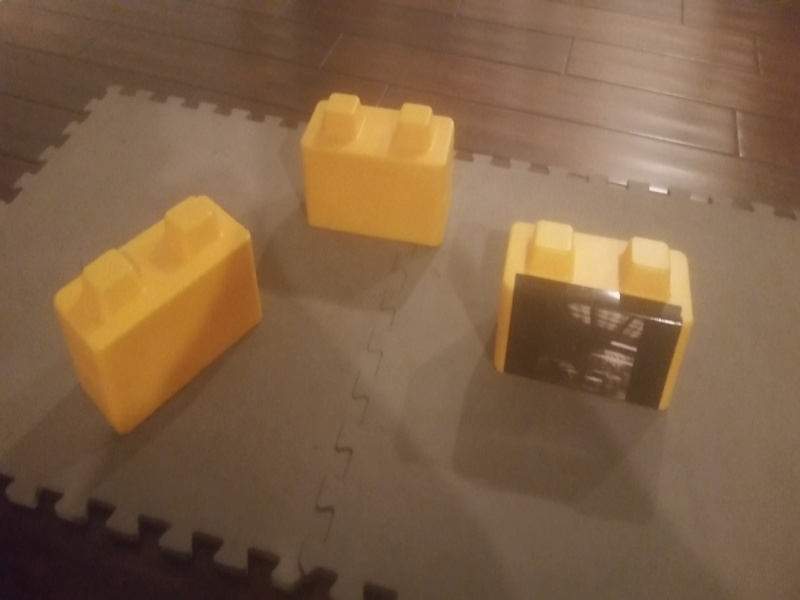Skystone: (495, 215, 696, 420)
Stone: (48, 188, 264, 432), (295, 92, 456, 258)
